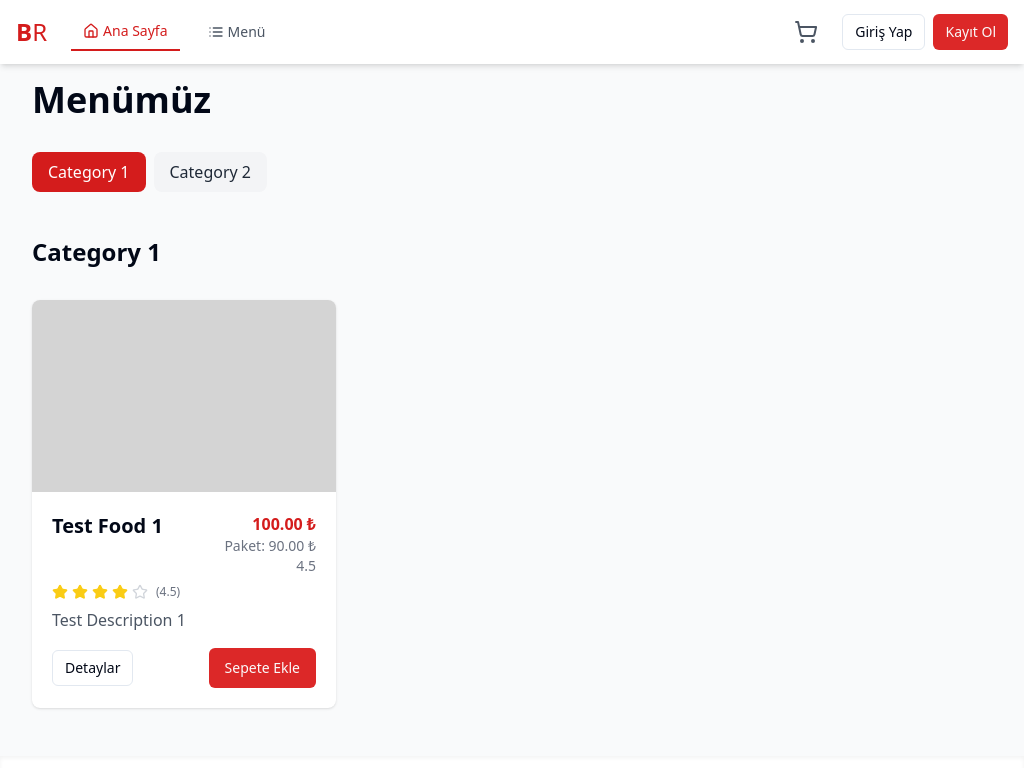
Scenario: Menu › displays categories and allows category switching
Note: Switch category
Click the button "Category 2": click(210, 172) left=154, top=152, right=267, bottom=192
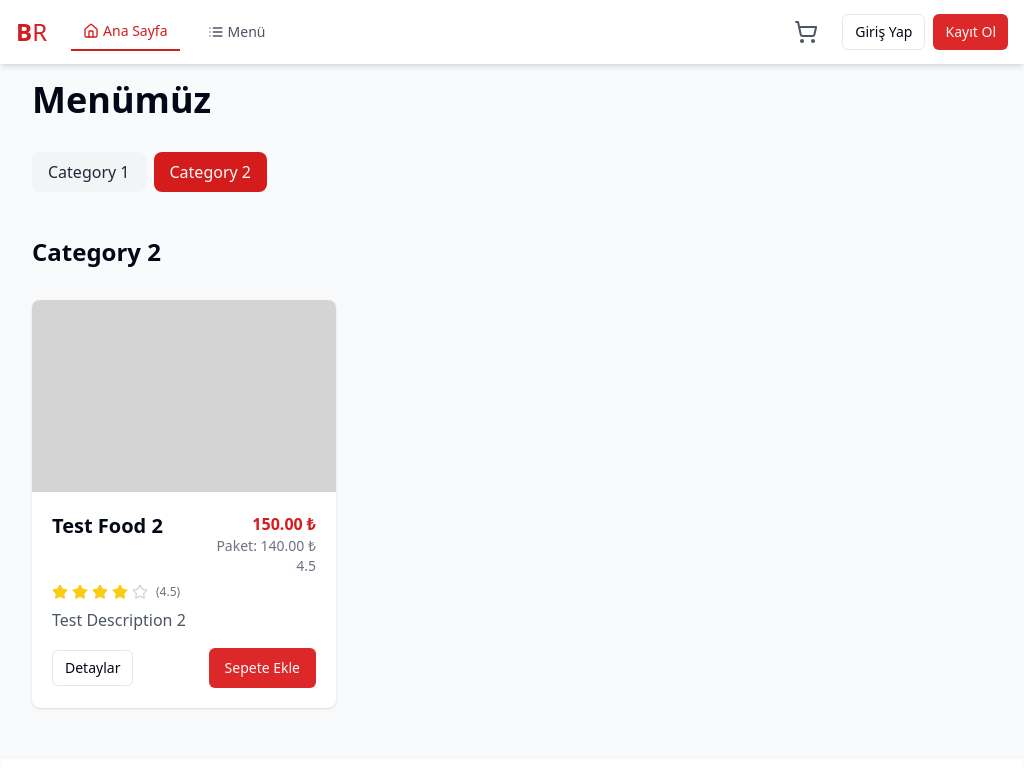
Now the heading "Test Food 2" is shown, box left=52, top=512, right=163, bottom=540
Now the link "Test Food 1" is gone
